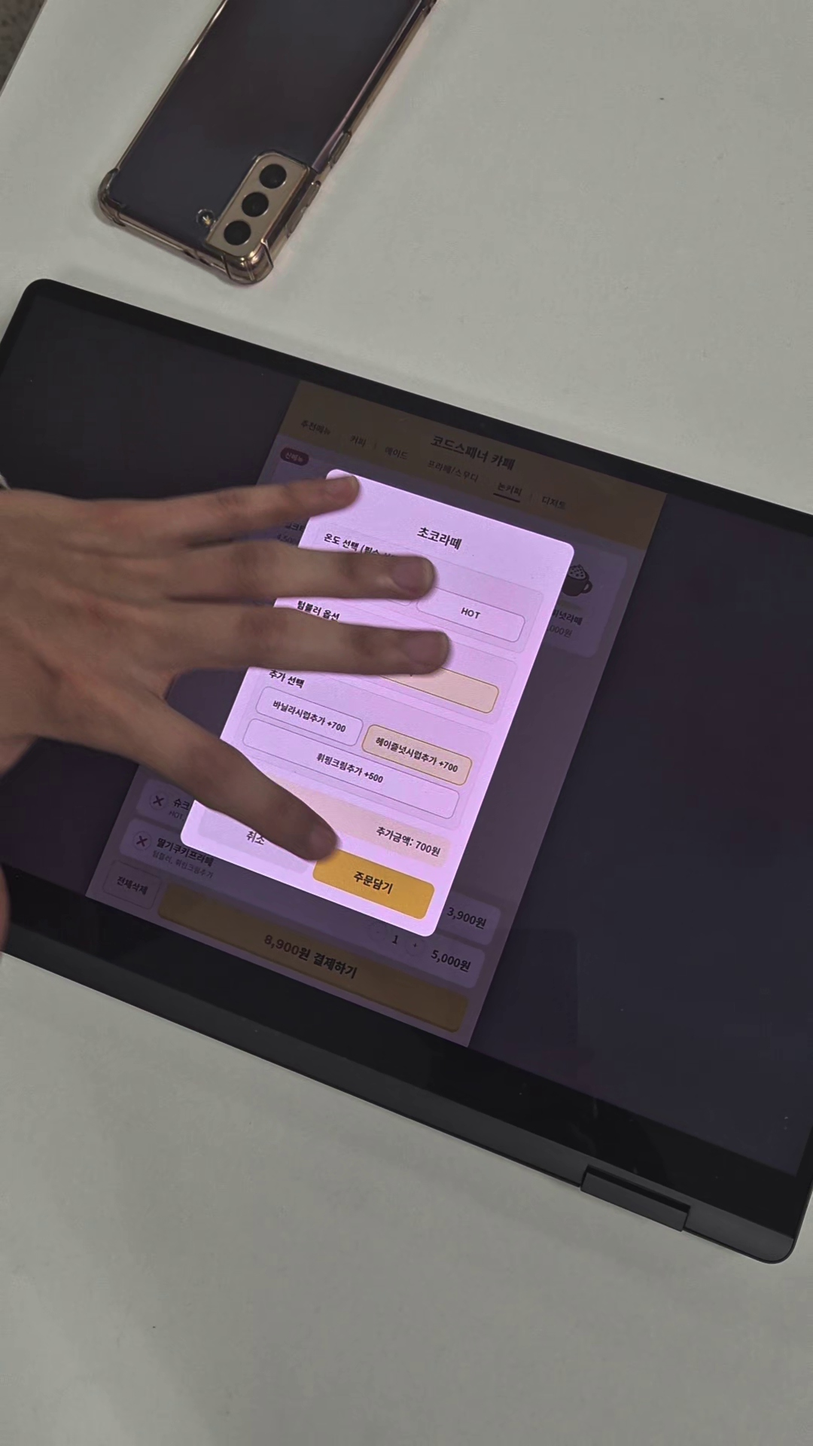action_button: (315, 846, 434, 921)
menu_name: (413, 522, 469, 554)
option_button: (239, 716, 461, 823), (361, 722, 474, 789), (254, 682, 366, 749), (415, 583, 528, 647)
